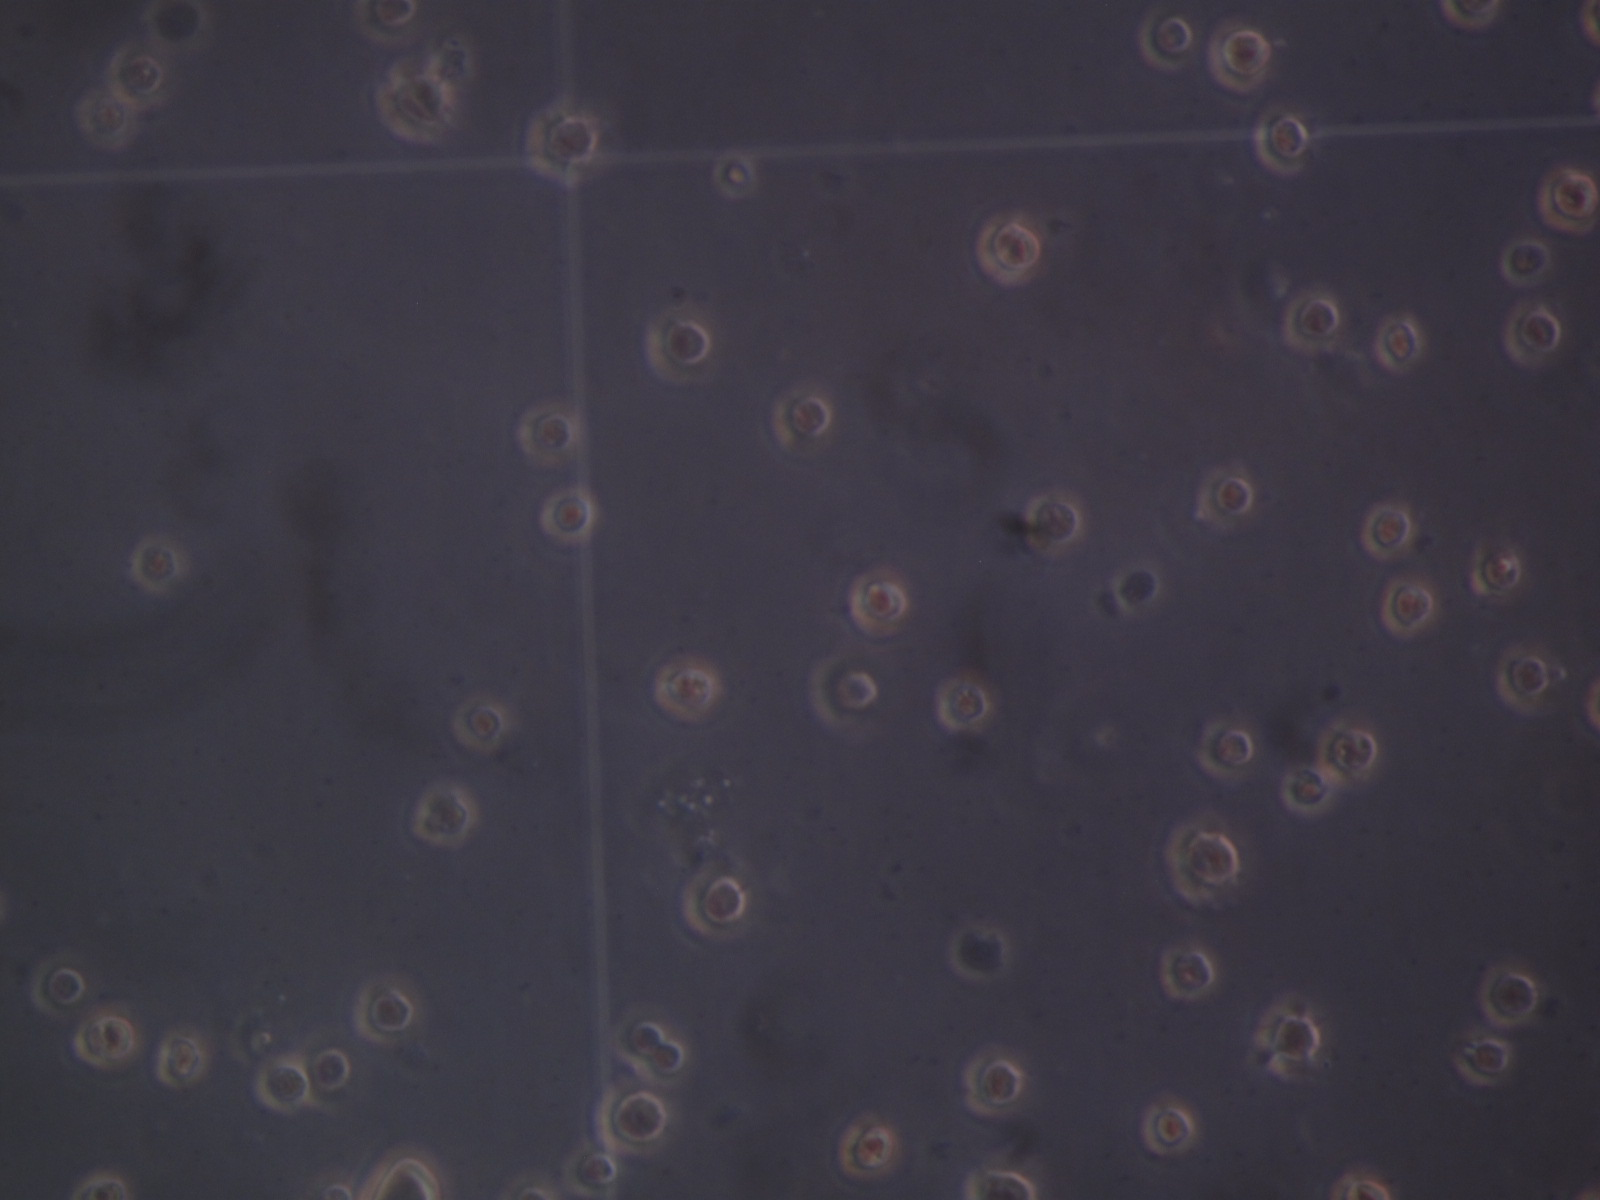hemo: (1162, 824, 1242, 910), (593, 1082, 666, 1158), (527, 106, 592, 184), (357, 1143, 446, 1200), (514, 393, 585, 464), (380, 78, 455, 144), (645, 313, 711, 386), (810, 653, 876, 726), (1537, 164, 1600, 238), (680, 868, 746, 939), (1207, 21, 1270, 95), (1261, 1005, 1323, 1074), (354, 979, 416, 1047), (976, 221, 1041, 285), (1479, 961, 1540, 1029), (1503, 297, 1560, 369), (655, 661, 719, 724), (850, 568, 910, 637), (76, 89, 139, 153), (1492, 645, 1551, 712), (611, 1002, 671, 1066), (771, 389, 830, 455), (107, 48, 169, 108), (1317, 717, 1376, 780), (960, 1056, 1023, 1116), (251, 1055, 311, 1116), (840, 1113, 894, 1180), (1377, 577, 1435, 639), (934, 677, 995, 734), (1196, 468, 1252, 528), (1199, 721, 1254, 784), (1256, 110, 1306, 176), (1136, 13, 1193, 71), (952, 924, 1009, 982), (155, 1030, 207, 1092), (449, 696, 504, 753), (1454, 1035, 1511, 1090), (77, 1013, 135, 1068), (1143, 1102, 1198, 1157), (130, 537, 184, 594), (414, 787, 471, 841), (1160, 948, 1217, 1002), (31, 959, 84, 1017), (540, 489, 595, 545), (1284, 299, 1340, 352), (1466, 543, 1523, 596), (1362, 504, 1414, 561), (1283, 763, 1335, 814), (566, 1148, 624, 1195), (348, 1, 414, 39), (1029, 495, 1081, 543), (307, 1042, 353, 1097), (961, 1168, 1036, 1200), (1376, 318, 1419, 371), (1112, 563, 1160, 610), (637, 1042, 690, 1084), (1328, 1166, 1392, 1200), (1503, 239, 1551, 284), (712, 153, 757, 197), (1441, 1, 1500, 30), (73, 1170, 129, 1200)
